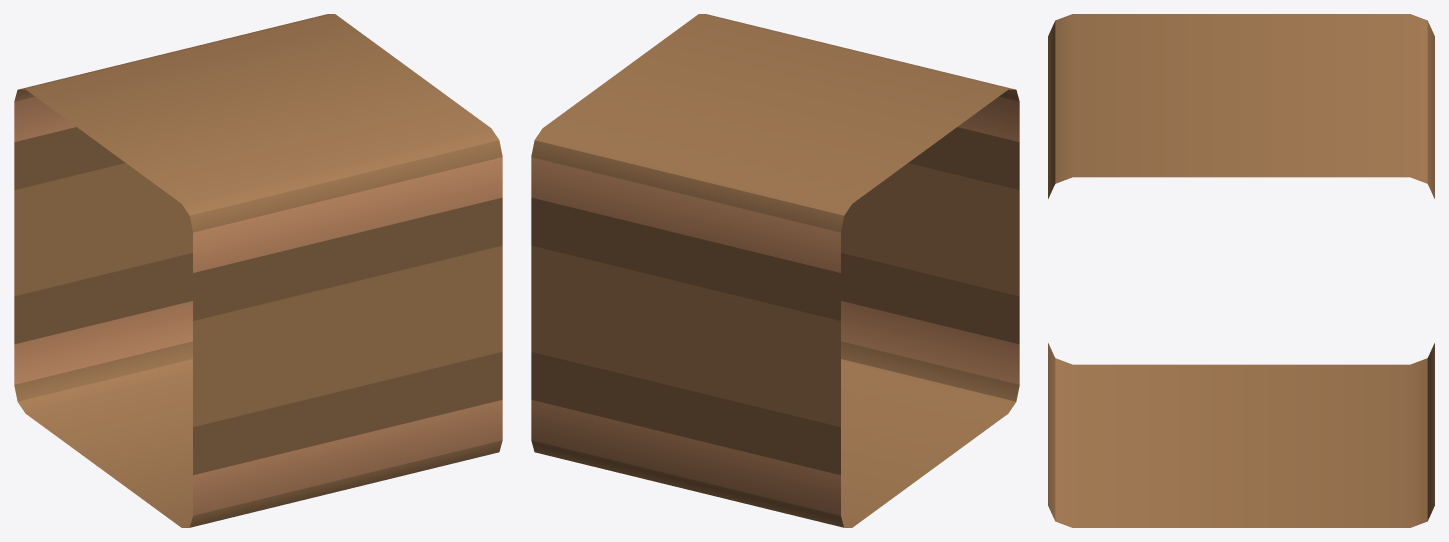
The model's file is Cube_Dirt_1x1Center.fbx.
3 views of the same model, side by side, from view 1: azimuth 30°, elevation 25°; view 2: azimuth 150°, elevation 25°; view 3: azimuth 270°, elevation 25° (orthographic). The views are drawn at different scales.
Parts seen in each view (by area): view 1: Cube_Dirt_1x1Center; view 2: Cube_Dirt_1x1Center; view 3: Cube_Dirt_1x1Center.
Boxes of the visible parts, x1=… form: Cube_Dirt_1x1Center: x1=14, y1=14, x2=502, y2=527; Cube_Dirt_1x1Center: x1=531, y1=14, x2=1019, y2=527; Cube_Dirt_1x1Center: x1=1048, y1=14, x2=1434, y2=527.
Bounding box in the file's own units: 200 × 200 × 200.
